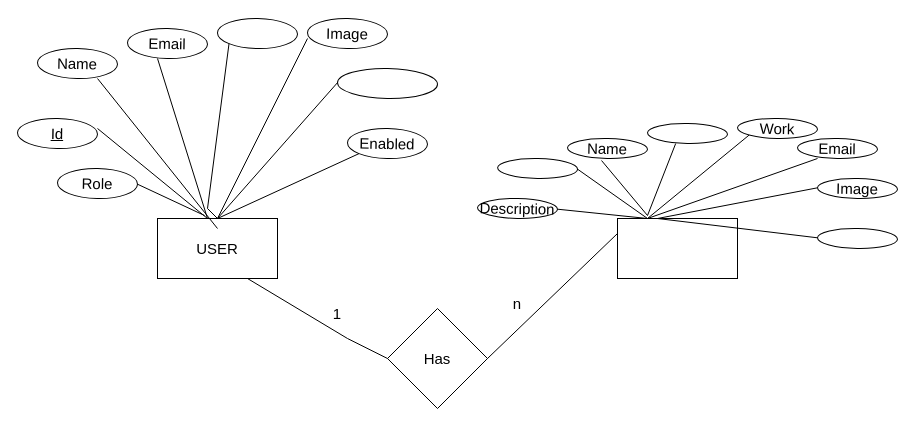
This 916x426 diagram has some shape labels left out. Each missing label, with the centre of its shape:
"About" goes at pixel 387 83.
"CId" goes at pixel 537 168.
"CONTACT" goes at pixel 677 248.
"Nickname" goes at pixel 687 133.
"Password" goes at pixel 257 33.
"Phoneno" goes at pixel 857 238.
